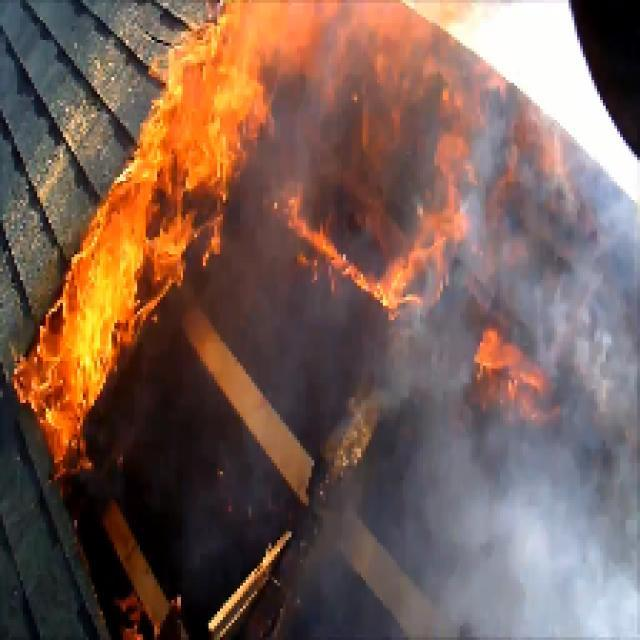Fire: (151, 87, 226, 242), (48, 239, 126, 369)
Smoke: (351, 397, 640, 637)
